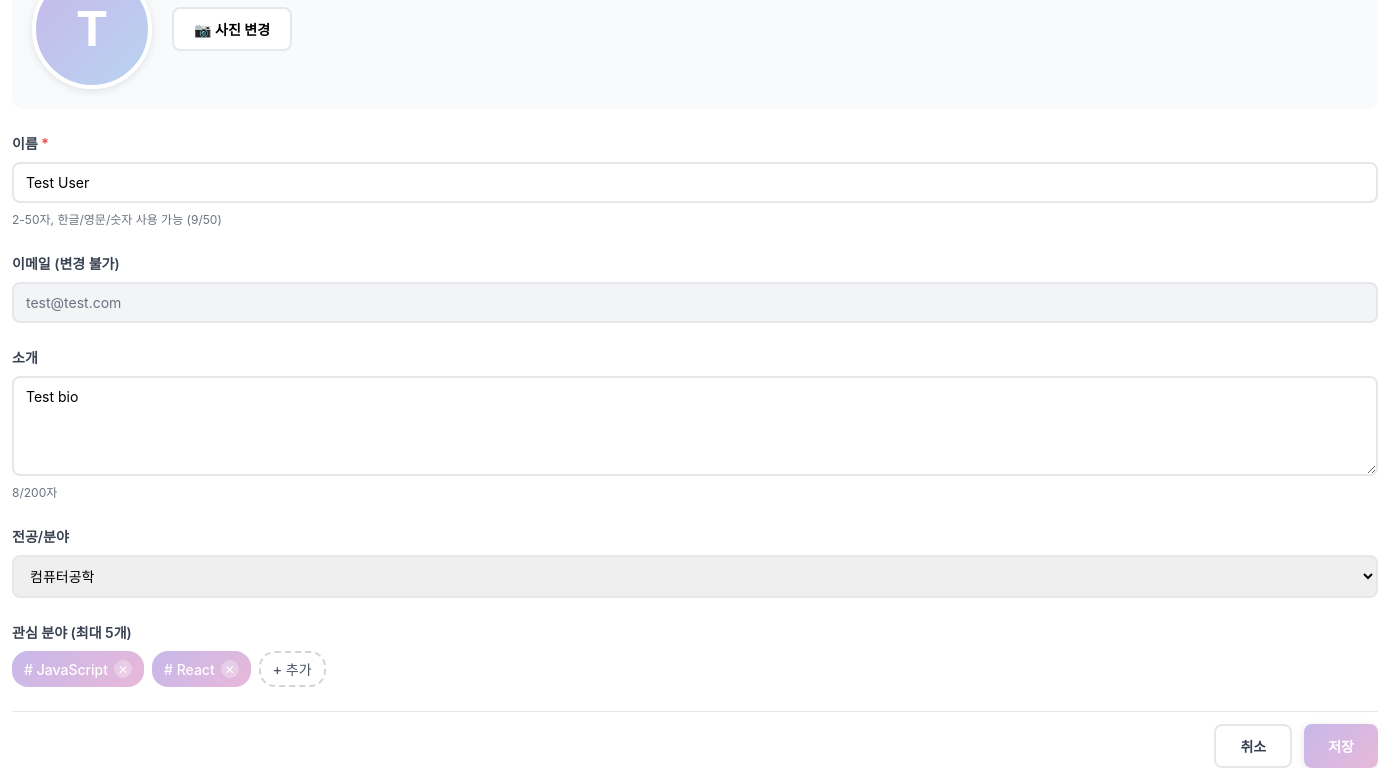
Test case: ProfileEdit Component › 프로필 저장 테스트 › 저장 중 로딩 상태 표시
The image size is (1390, 768).
(page scrolled)
Click the button "저장": (1341, 746) top-left (1304, 724), bottom-right (1378, 767)
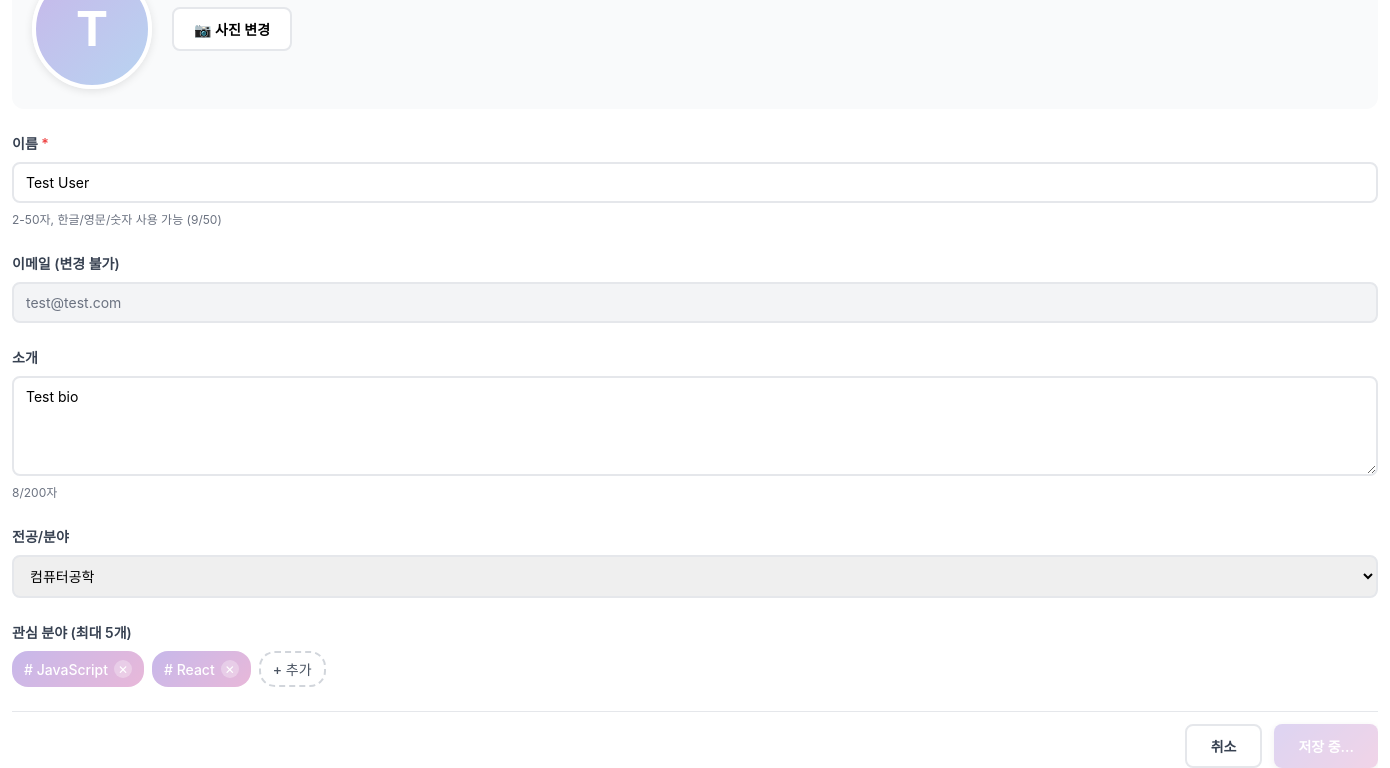
Expected: the button "저장 중..." is disabled, top-left (1274, 724), bottom-right (1378, 767)
